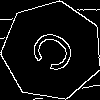C: (27, 26, 87, 82)
